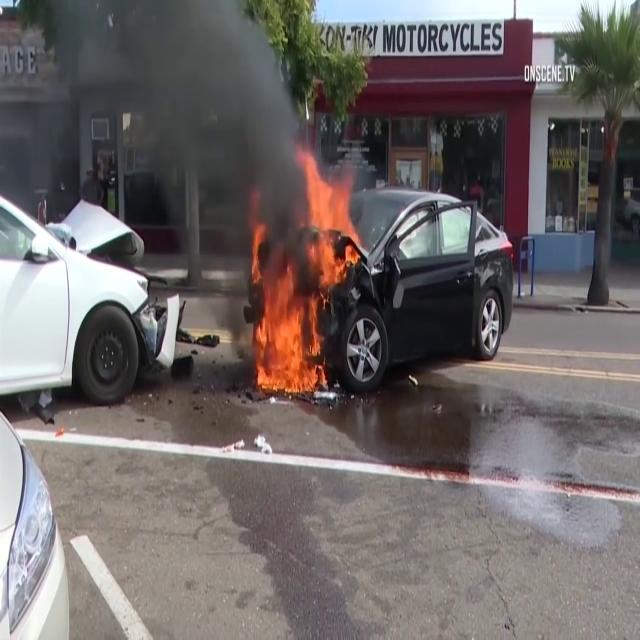Fire: (238, 267, 330, 411), (298, 157, 378, 290)
Smoke: (61, 0, 325, 267)
